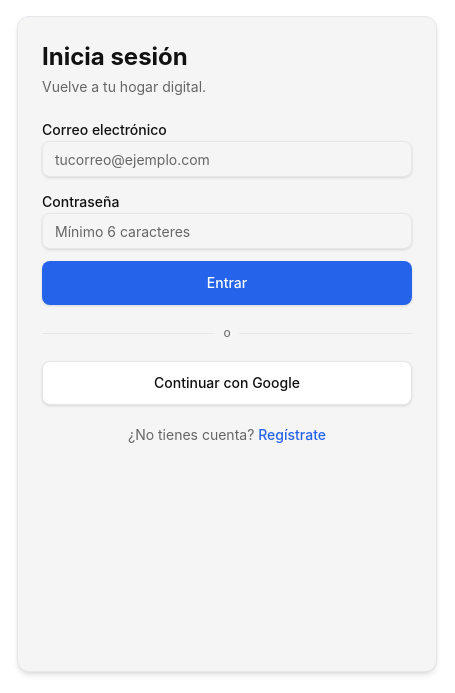
AuthView (base) — login › valida que la contraseña tenga al menos 6 caracteres
Type "test@example.com" into the field labelled "Correo electrónico".
click(227, 159); type("test@example.com")  # box top-left (42, 141), bottom-right (412, 177)
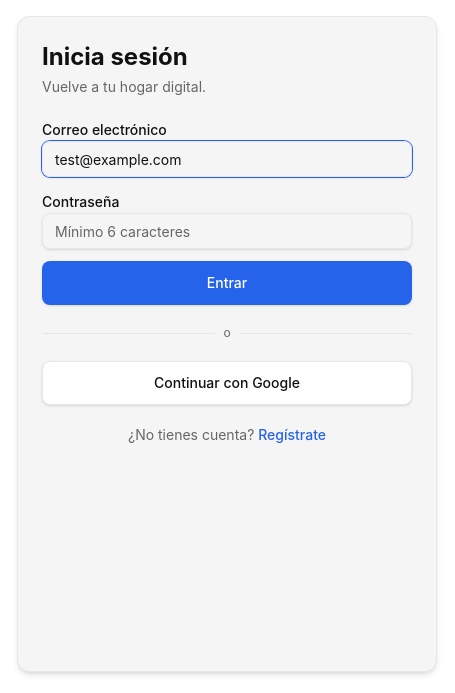
Type "123" into the password field labelled "Contraseña".
click(227, 231); type("123")  # box top-left (42, 213), bottom-right (412, 249)
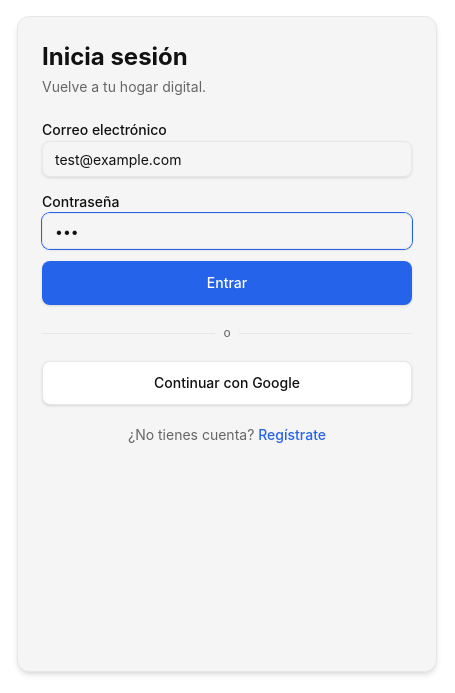
Click the button "Entrar".
click(227, 283)  # box top-left (42, 261), bottom-right (412, 305)
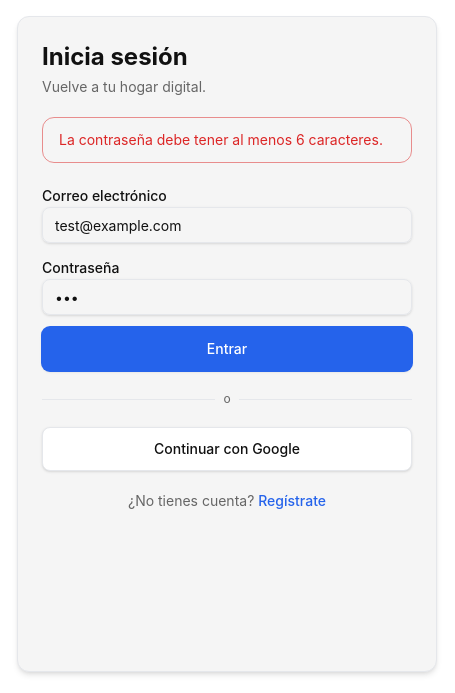
Check: the message shows "al menos 6 caracteres", box top-left (59, 131), bottom-right (383, 148)
